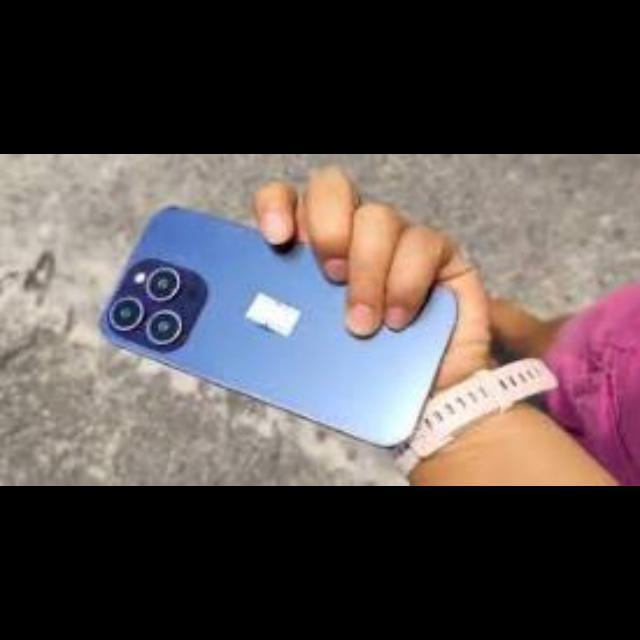Phone: (95, 204, 462, 443)
